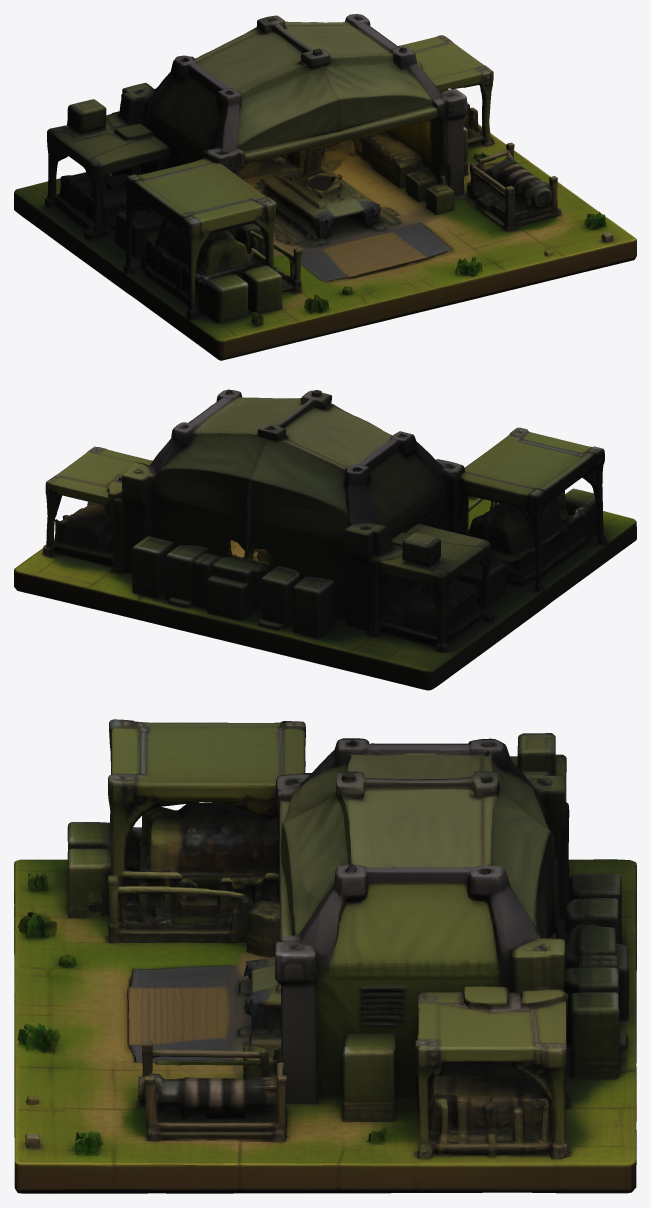
File: assembly.glb
3 views of the same model, one above another, from view 1: azimuth 30°, elevation 25°; view 2: azimuth 150°, elevation 25°; view 3: azimuth 270°, elevation 25° (orthographic). The views are drawn at different scales.
Parts seen in each view (by area): view 1: world; view 2: world; view 3: world.
Part boxes in pixels (box(x1,y1,x2,y2)): world: box(14, 14, 636, 360); world: box(14, 389, 636, 690); world: box(14, 719, 636, 1193).
Bounding box in the file's own units: 1 × 0.4095 × 0.86.
1 material, 1 textured.
